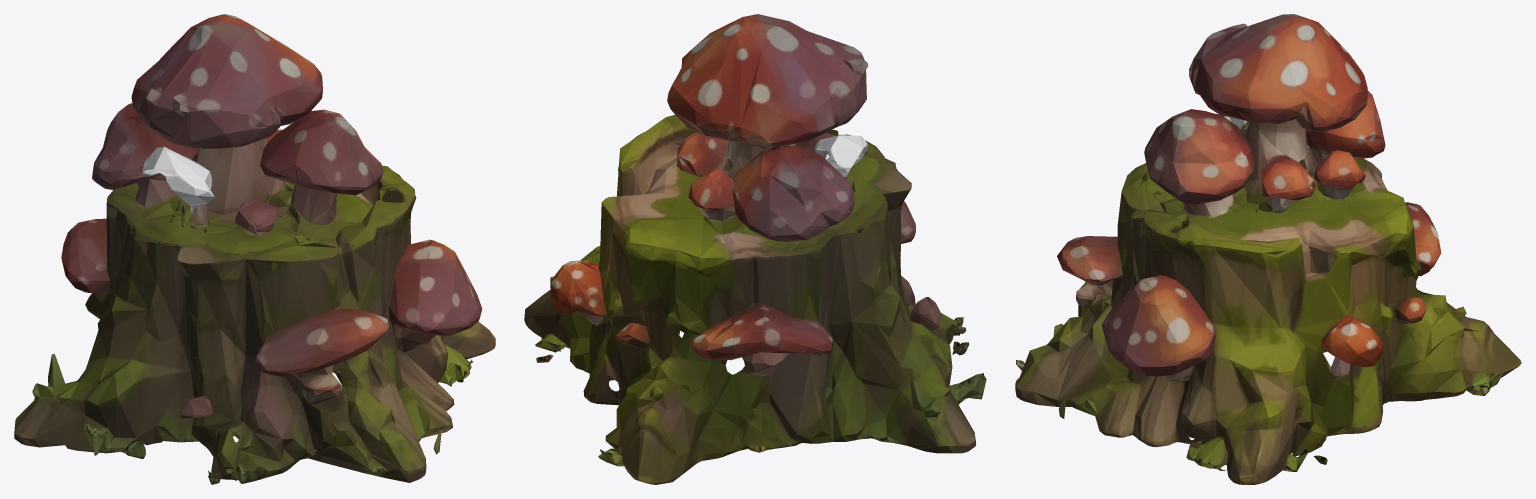
File: mushroom.glb
The picture shows the model from 3 angles, left to right: view 1: azimuth 30°, elevation 25°; view 2: azimuth 150°, elevation 25°; view 3: azimuth 270°, elevation 25°; orthographic projection. The views are drawn at different scales.
Visible parts, largest first — view 1: world; view 2: world; view 3: world.
Boxes of the visible parts, x1=… form: world: x1=14, y1=14, x2=495, y2=484; world: x1=524, y1=14, x2=986, y2=484; world: x1=1015, y1=14, x2=1521, y2=484.
Bounding box in the file's own units: 0.9946 × 0.776 × 0.9953.
1 material, 1 textured.
